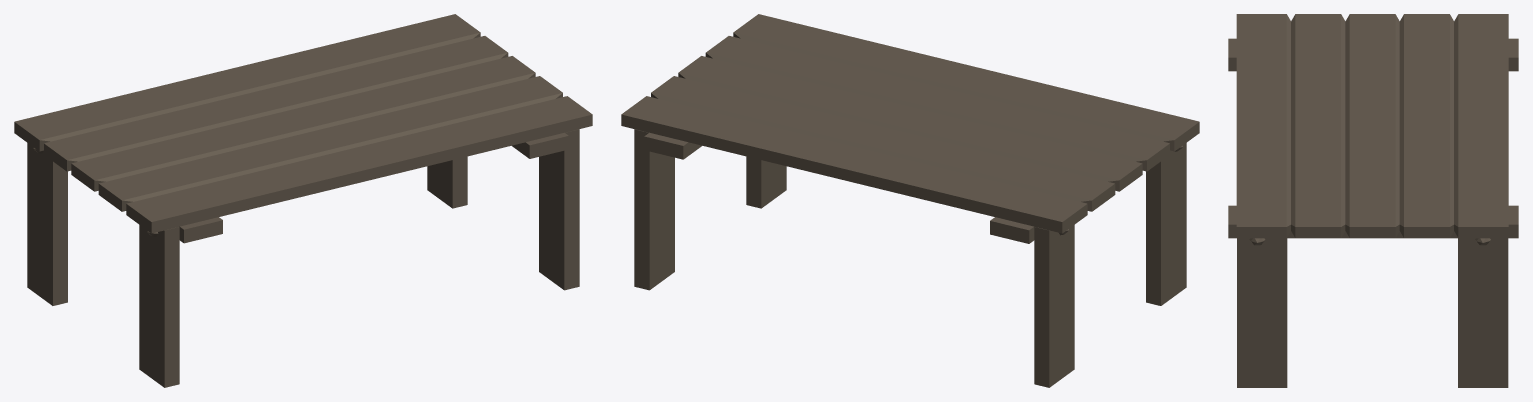
File: Table.fbx
3 views of the same model, side by side, from view 1: azimuth 30°, elevation 25°; view 2: azimuth 150°, elevation 25°; view 3: azimuth 270°, elevation 25° (orthographic).
Parts seen in each view (by area): view 1: Table; view 2: Table; view 3: Table.
Boxes of the visible parts, x1=… form: Table: x1=14, y1=14, x2=592, y2=387; Table: x1=621, y1=14, x2=1199, y2=387; Table: x1=1228, y1=14, x2=1518, y2=387.
Size of the model in its own units: 336 by 123 by 193.
